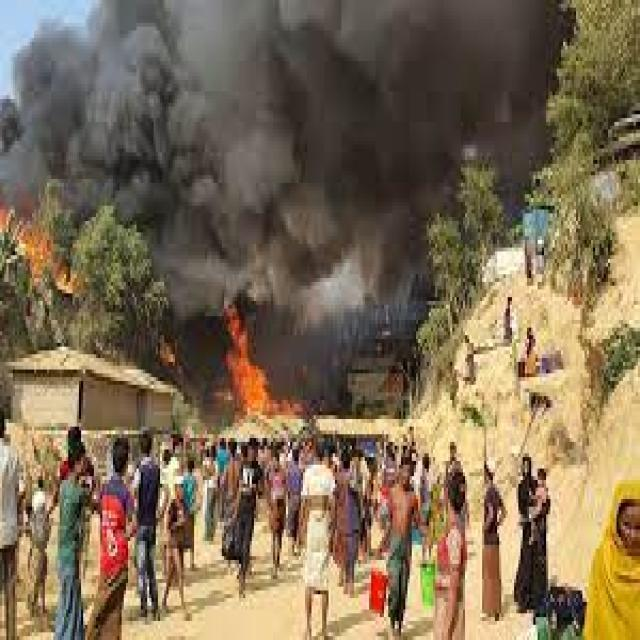Fire: (223, 317, 282, 424)
Smoke: (2, 10, 556, 236), (168, 228, 439, 358)
